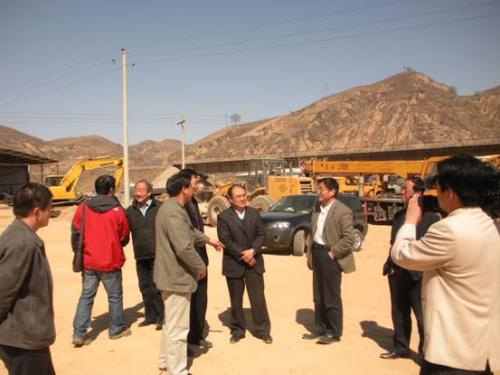boots: (380, 349, 410, 358), (316, 333, 340, 344), (109, 326, 129, 339), (72, 334, 91, 346), (302, 330, 324, 338), (229, 332, 245, 342), (258, 333, 272, 344), (138, 318, 156, 326)
person: (389, 153, 500, 375), (152, 174, 210, 375), (380, 174, 442, 359), (0, 182, 57, 375), (70, 173, 130, 345), (216, 183, 273, 344), (305, 177, 356, 344), (123, 179, 164, 330)
